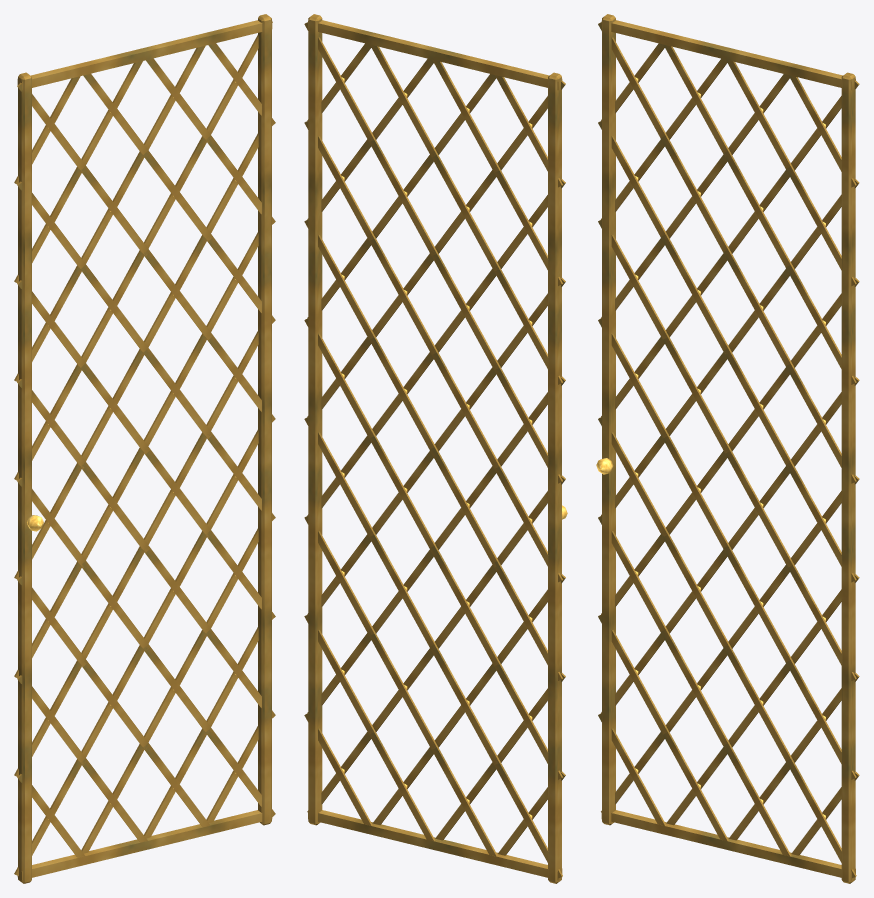
File: sp_lift_lgate.glb
The picture shows the model from 3 angles, left to right: view 1: azimuth 30°, elevation 25°; view 2: azimuth 150°, elevation 25°; view 3: azimuth 330°, elevation 25°; orthographic projection.
Visible parts, largest first — view 1: spire; view 2: spire; view 3: spire.
Part boxes in pixels (x1,y1,x2,y2): spire: (14, 14, 275, 883); spire: (304, 14, 567, 883); spire: (596, 14, 859, 883).
Bounding box in the file's own units: 1.24 × 3.7 × 0.125.
2 materials, 2 textured.
